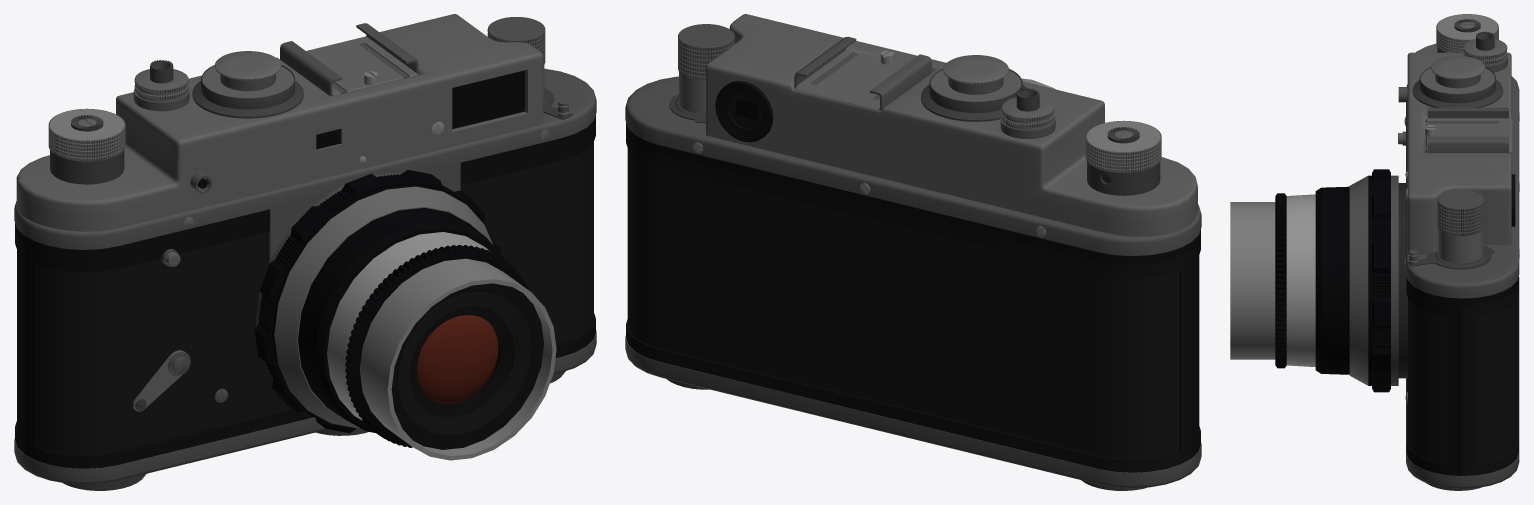
Rendered from Photo.fbx.
3 views of the same model, side by side, from view 1: azimuth 30°, elevation 25°; view 2: azimuth 150°, elevation 25°; view 3: azimuth 270°, elevation 25° (orthographic). The views are drawn at different scales.
Parts seen in each view (by area): view 1: Cylinder032, Cylinder033, Object001, Object004, Cylinder052, Cylinder038, Cylinder037, Cylinder036, Shape013, Sphere001, Cylinder039, Cylinder040 (+16 smaller); view 2: Cylinder032, Cylinder033, Object001, Object005, Object004, Group006, Box007, Cylinder024, Cylinder025, Cylinder043, Cylinder047, Cylinder018 (+5 smaller); view 3: Cylinder032, Cylinder033, Cylinder052, Object001, Cylinder038, Cylinder039, Object004, Cylinder036, Cylinder037, Object005, Box007, Cylinder040 (+15 smaller).
Boxes of the visible parts, x1=… form: Cylinder032: x1=17, y1=142, x2=593, y2=455; Cylinder033: x1=16, y1=14, x2=542, y2=231; Object001: x1=14, y1=68, x2=596, y2=484; Object004: x1=15, y1=115, x2=595, y2=468; Cylinder052: x1=359, y1=258, x2=556, y2=460; Cylinder038: x1=298, y1=208, x2=503, y2=432; Cylinder037: x1=274, y1=186, x2=493, y2=428; Cylinder036: x1=254, y1=170, x2=500, y2=433; Shape013: x1=397, y1=292, x2=531, y2=435; Sphere001: x1=416, y1=315, x2=498, y2=403; Cylinder039: x1=327, y1=232, x2=490, y2=420; Cylinder040: x1=345, y1=245, x2=528, y2=447; Cylinder032: x1=627, y1=149, x2=1199, y2=459; Cylinder033: x1=706, y1=14, x2=1197, y2=236; Object001: x1=625, y1=76, x2=1201, y2=488; Object005: x1=626, y1=130, x2=1191, y2=472; Object004: x1=626, y1=122, x2=1200, y2=457; Group006: x1=794, y1=49, x2=905, y2=110; Box007: x1=794, y1=36, x2=931, y2=109; Cylinder024: x1=678, y1=24, x2=734, y2=80; Cylinder025: x1=921, y1=69, x2=1027, y2=121; Cylinder043: x1=715, y1=81, x2=773, y2=142; Cylinder047: x1=1085, y1=120, x2=1161, y2=172; Cylinder018: x1=1087, y1=162, x2=1160, y2=195; Cylinder032: x1=1408, y1=298, x2=1517, y2=464; Cylinder033: x1=1407, y1=43, x2=1511, y2=254; Cylinder052: x1=1230, y1=202, x2=1275, y2=359; Object001: x1=1406, y1=76, x2=1519, y2=488; Cylinder038: x1=1315, y1=186, x2=1349, y2=374; Cylinder039: x1=1286, y1=194, x2=1315, y2=366; Object004: x1=1406, y1=276, x2=1518, y2=475; Cylinder036: x1=1372, y1=169, x2=1390, y2=392; Cylinder037: x1=1349, y1=176, x2=1368, y2=385; Object005: x1=1462, y1=282, x2=1518, y2=475; Box007: x1=1427, y1=107, x2=1508, y2=152; Cylinder040: x1=1275, y1=193, x2=1286, y2=368.
Size of the model in its own units: 140 by 89.39 by 76.81.
